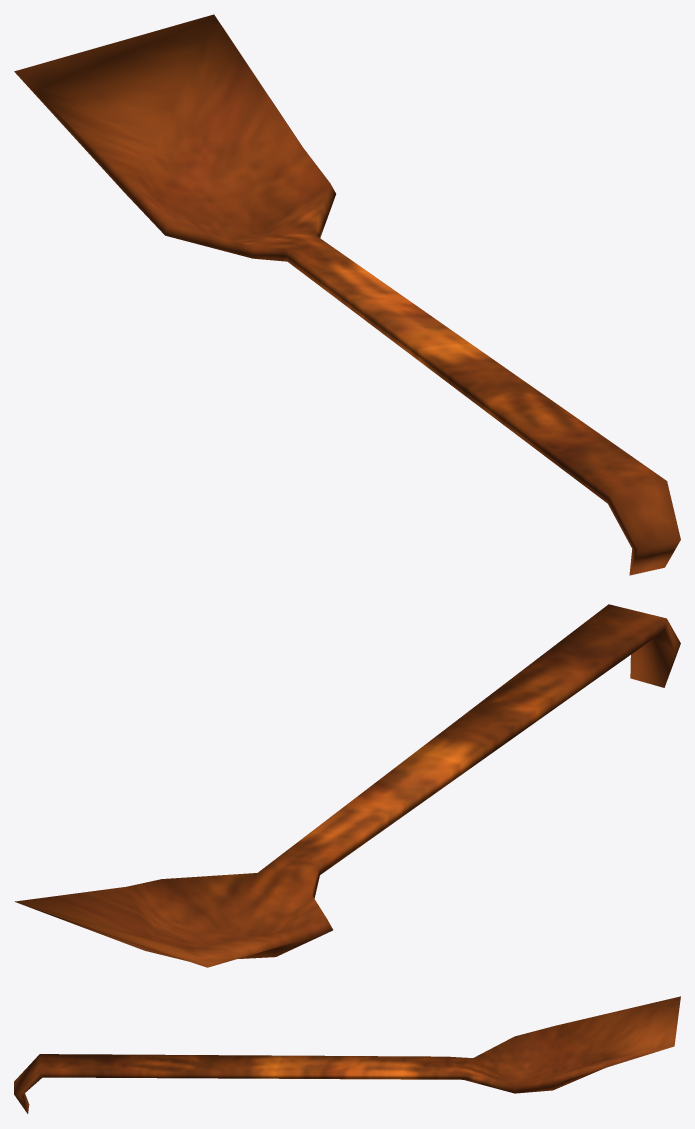
Rendered from Spatula.fbx.
The picture shows the model from 3 angles, top to bottom: view 1: azimuth 30°, elevation 25°; view 2: azimuth 150°, elevation 25°; view 3: azimuth 270°, elevation 25°; orthographic projection. The views are drawn at different scales.
Visible parts, largest first — view 1: Spatula; view 2: Spatula; view 3: Spatula.
Boxes of the visible parts, x1,y1,x2,y2 form: Spatula: (14, 14, 680, 575); Spatula: (15, 604, 680, 967); Spatula: (14, 996, 680, 1113).
Bounding box in the file's own units: 26.86 × 19.61 × 130.
